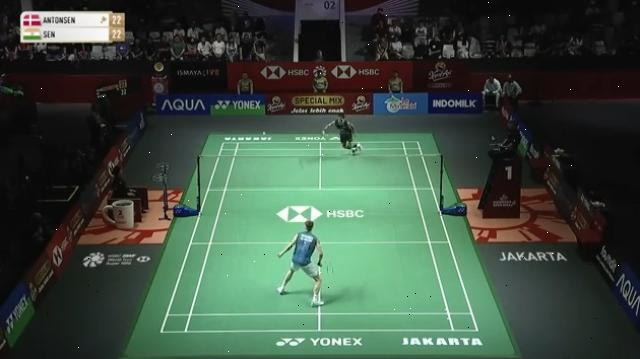Shuttlecock: (258, 130, 270, 138)
